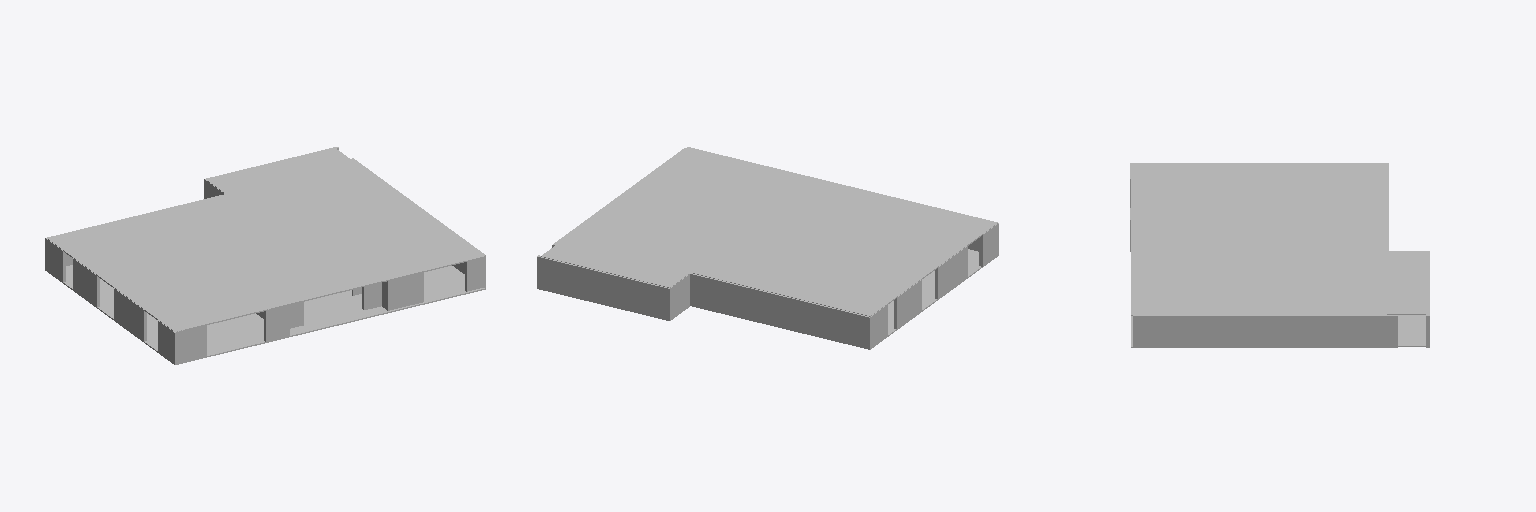
Rendered from casaloft.obj.
3 views of the same model, side by side, from view 1: azimuth 30°, elevation 25°; view 2: azimuth 150°, elevation 25°; view 3: azimuth 270°, elevation 25° (orthographic).
Visible parts, largest first — view 1: pCube53, pCube50, pCube52, LoftParedes pCube6, LoftParedes pCube14, LoftParedes pCube8, LoftParedes pCube5, LoftParedes pCube9, LoftParedes pCube7, LoftParedes pCube15, LoftParedes pCube4; view 2: pCube53, LoftParedes pCube2, pCube1 LoftParedes, pCube52, LoftParedes pCube6, pCube50, LoftParedes pCube5, LoftParedes pCube3, LoftParedes pCube7, LoftParedes pCube4; view 3: pCube53, LoftParedes pCube16, pCube52, pCube51.
Boxes of the visible parts, x1=… form: pCube53: x1=47, y1=162, x2=485, y2=331; pCube50: x1=49, y1=265, x2=485, y2=364; pCube52: x1=206, y1=148, x2=354, y2=193; LoftParedes pCube6: x1=114, y1=288, x2=146, y2=341; LoftParedes pCube14: x1=391, y1=272, x2=423, y2=309; LoftParedes pCube8: x1=178, y1=325, x2=206, y2=363; LoftParedes pCube5: x1=73, y1=258, x2=99, y2=307; LoftParedes pCube9: x1=264, y1=304, x2=289, y2=341; LoftParedes pCube7: x1=158, y1=320, x2=177, y2=364; LoftParedes pCube15: x1=465, y1=254, x2=485, y2=291; LoftParedes pCube4: x1=47, y1=239, x2=65, y2=282; pCube53: x1=560, y1=147, x2=997, y2=316; LoftParedes pCube2: x1=690, y1=273, x2=871, y2=349; pCube1 LoftParedes: x1=537, y1=255, x2=669, y2=320; pCube52: x1=541, y1=241, x2=690, y2=287; LoftParedes pCube6: x1=935, y1=246, x2=967, y2=299; pCube50: x1=873, y1=249, x2=996, y2=347; LoftParedes pCube5: x1=894, y1=280, x2=921, y2=329; LoftParedes pCube3: x1=669, y1=273, x2=690, y2=320; LoftParedes pCube7: x1=979, y1=223, x2=998, y2=266; LoftParedes pCube4: x1=872, y1=305, x2=887, y2=347; pCube53: x1=1131, y1=163, x2=1386, y2=315; LoftParedes pCube16: x1=1133, y1=315, x2=1397, y2=347; pCube52: x1=1387, y1=251, x2=1427, y2=314; pCube51: x1=1398, y1=315, x2=1425, y2=346.
Size of the model in its own units: 30.75 by 3.15 by 25.55.